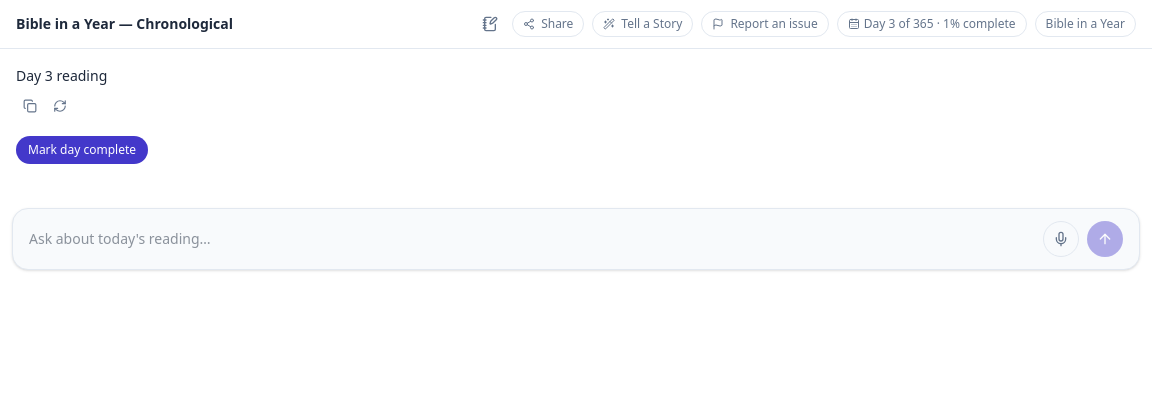
Test: ChatPane › marking a day complete advances dayIndex, records it, and appends the next day's reading
Click the button "Mark day complete" at coordinates (82, 150), box [16,136,148,164]
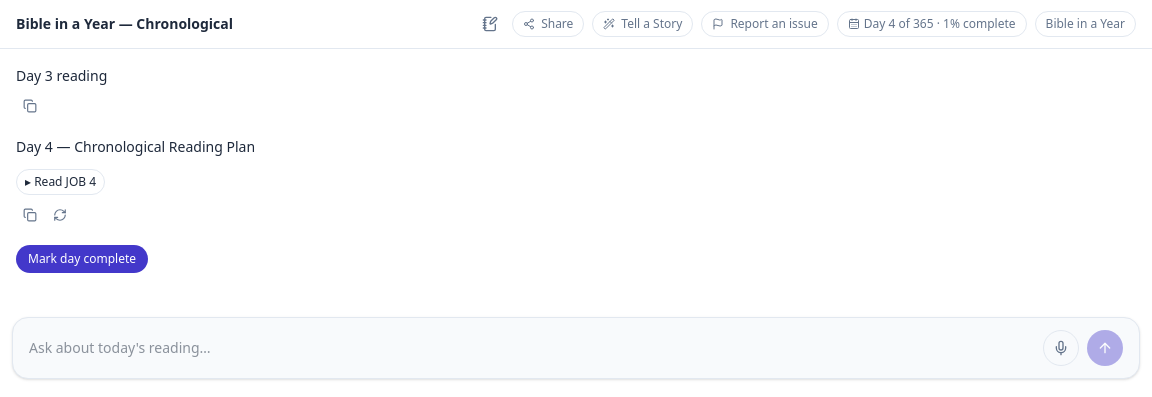
Expected: the text "Day 4 — Chronological Reading Plan" is shown, [16,136,255,157]
